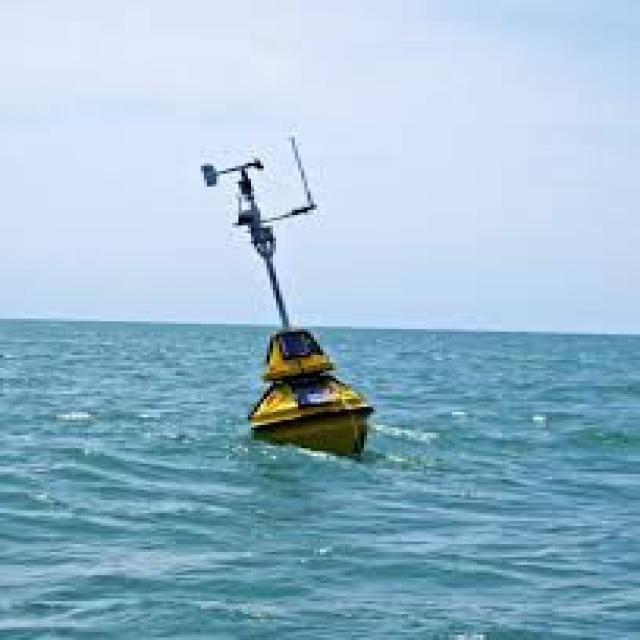2.5 sepcial mark: (166, 127, 407, 474)
